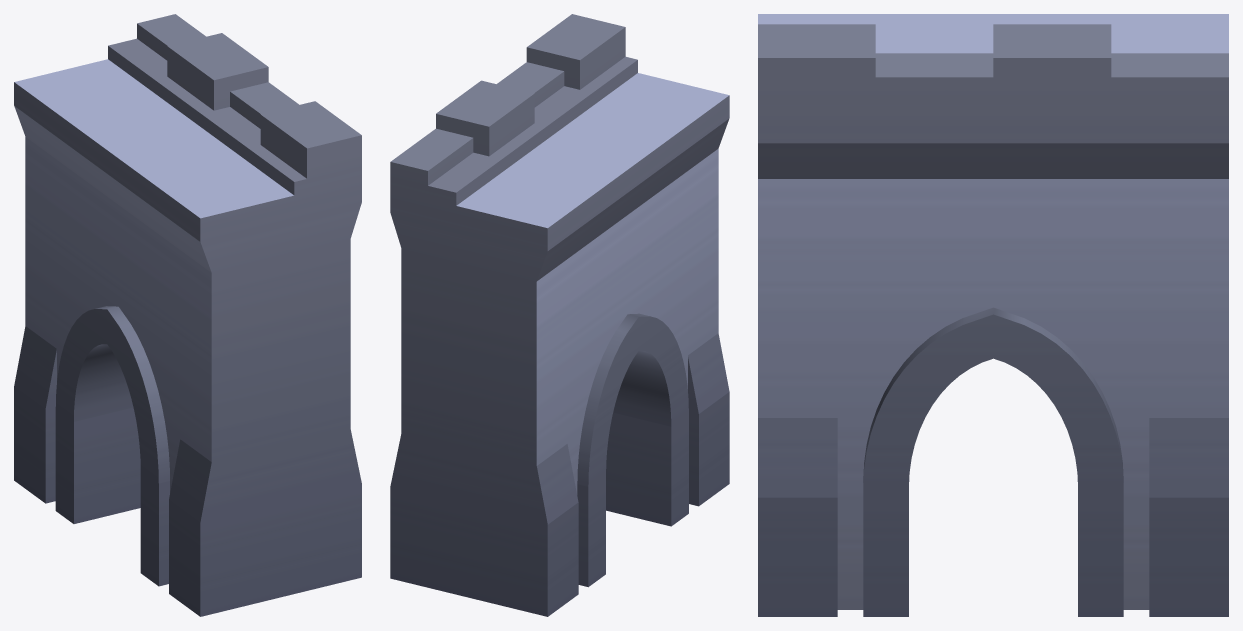
Rendered from wall-doorway.fbx.
The picture shows the model from 3 angles, left to right: view 1: azimuth 30°, elevation 25°; view 2: azimuth 150°, elevation 25°; view 3: azimuth 270°, elevation 25°; orthographic projection. The views are drawn at different scales.
Parts seen in each view (by area): view 1: wall-doorway; view 2: wall-doorway; view 3: wall-doorway.
Part boxes in pixels (x1,y1,x2,y2): wall-doorway: (14, 14, 361, 616); wall-doorway: (390, 14, 729, 616); wall-doorway: (758, 14, 1228, 616).
Bounding box in the file's own units: 0.5 × 1 × 1.31.
